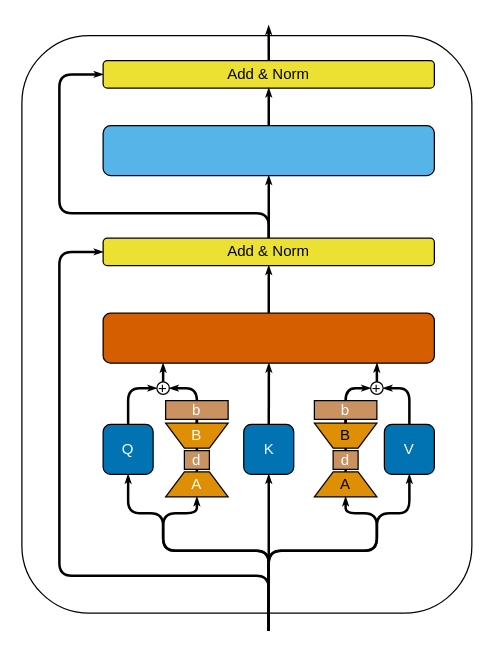
Image size: 494x664. Some labels were removed from this diagram. Each missing label, with the centre of its shape:
Feed Forward: point 268,150
Multi-head attention: point 268,337
